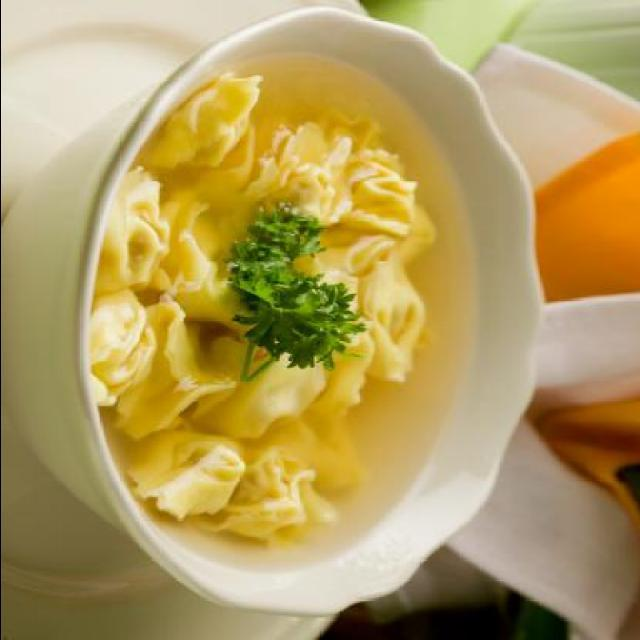Tortellini in broth: (75, 70, 473, 556)
